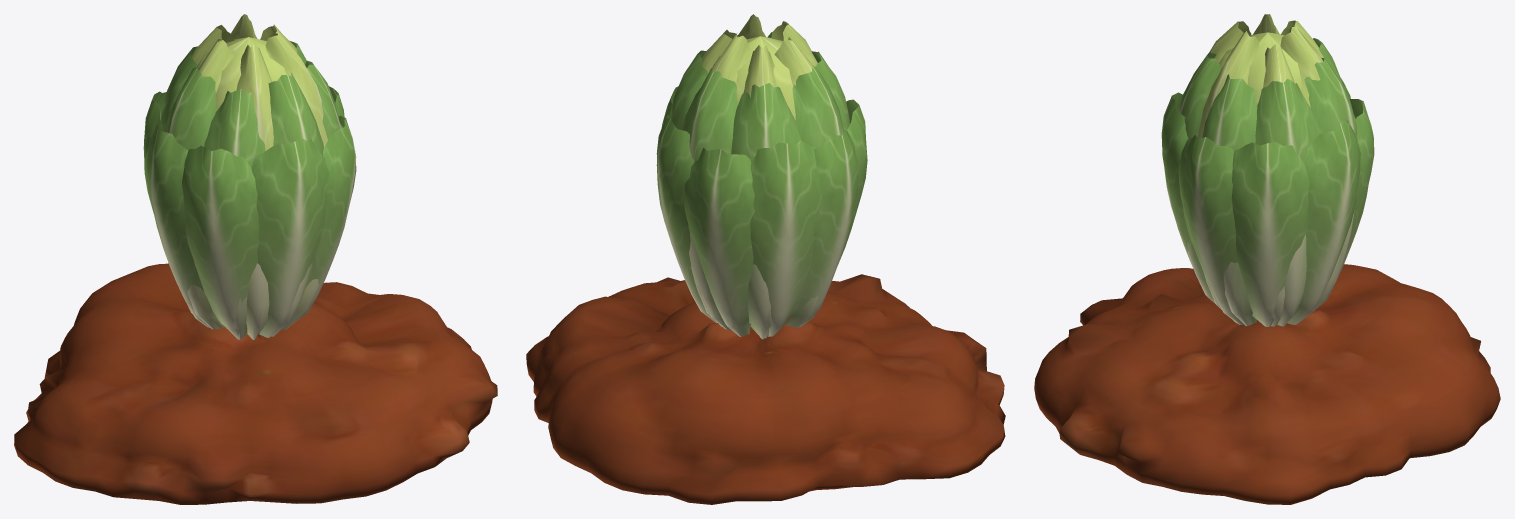
The picture shows the model from 3 angles, left to right: view 1: azimuth 30°, elevation 25°; view 2: azimuth 150°, elevation 25°; view 3: azimuth 270°, elevation 25°; orthographic projection.
Visible parts, largest first — view 1: cabbage-ready; view 2: cabbage-ready; view 3: cabbage-ready.
Part boxes in pixels (box(x1,y1,x2,y2)): cabbage-ready: box(14, 14, 497, 504); cabbage-ready: box(526, 14, 1005, 504); cabbage-ready: box(1034, 14, 1500, 504).
Bounding box in the file's own units: 0.7926 × 0.6598 × 0.7345.
Materials: 1 (1 with a texture image).
